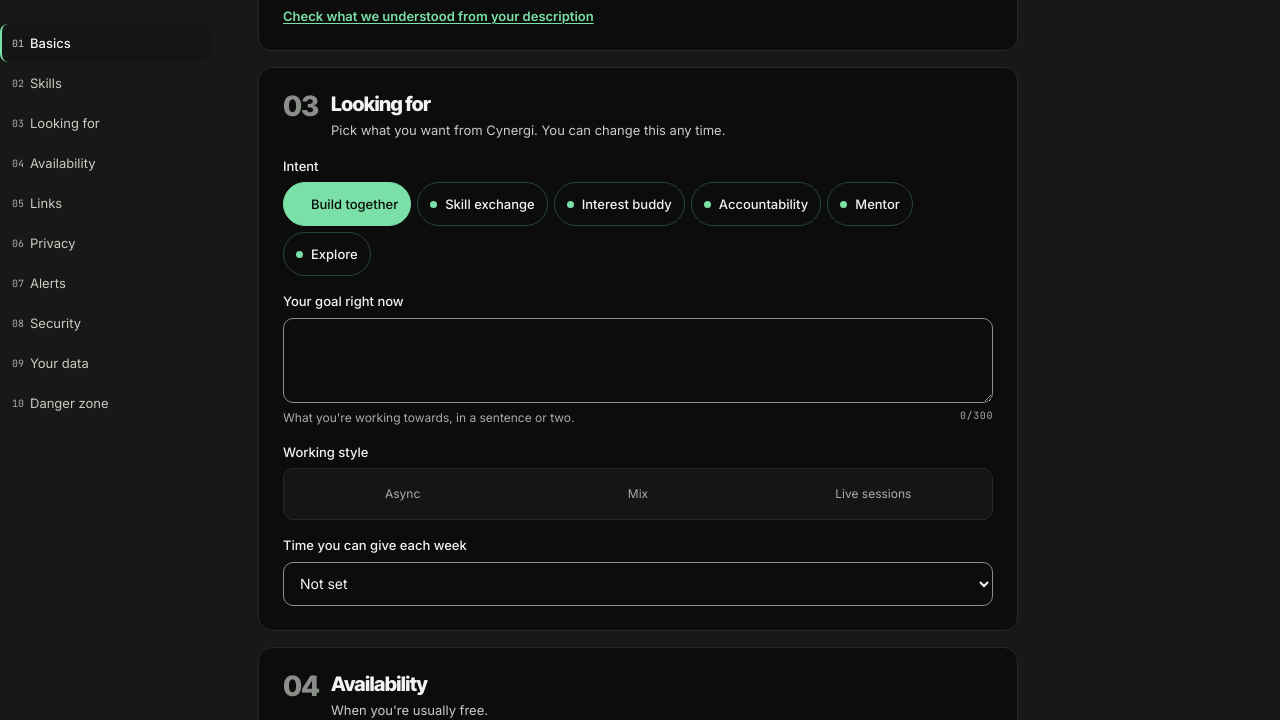
Test: YouPage › keeps the edits when a save fails, and says what happened
(page scrolled)
Type "Ship by December." into the text box labelled "Your goal right now". click: coordinates (638, 360)
box: 283,318 -> 993,403
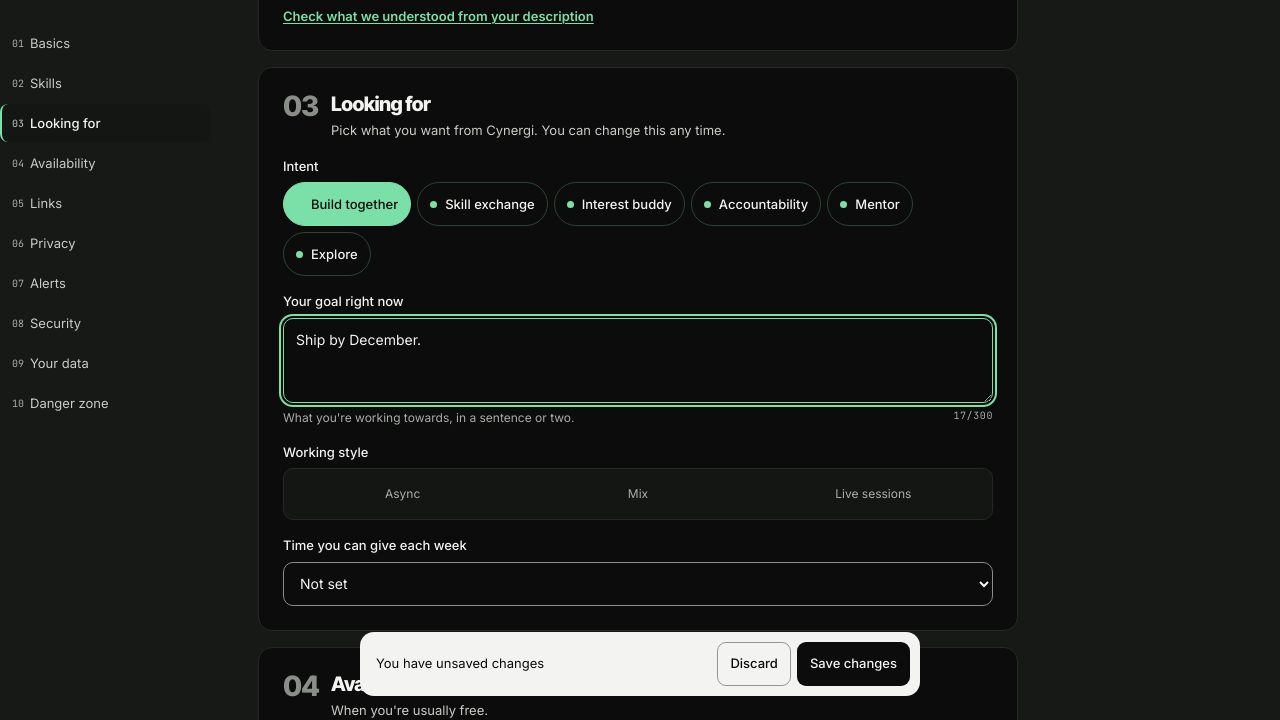
Click the button "Save changes". click: coordinates (853, 664)
box: 797,642 -> 910,686
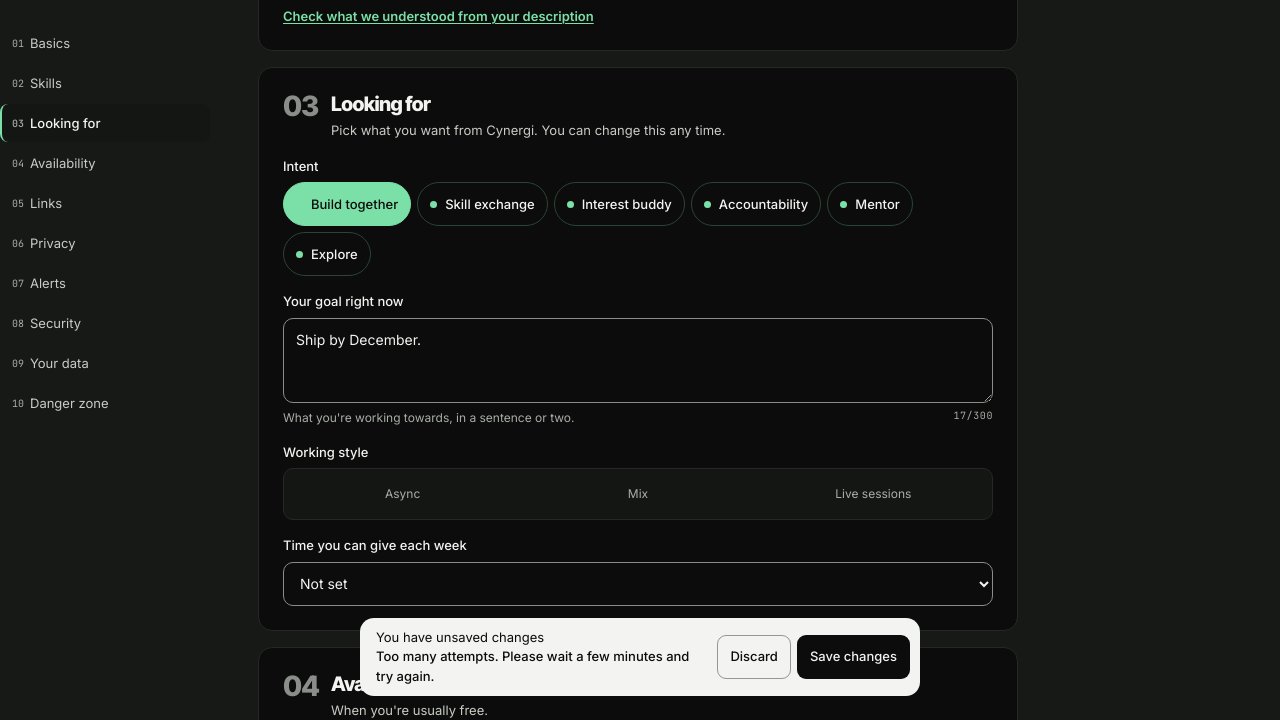
Expected: the element "unsaved changes" is shown, 360,618 -> 920,696
Expected: the message "Too many attempts. Please wait a few minutes and try again." is shown, 376,647 -> 709,686
